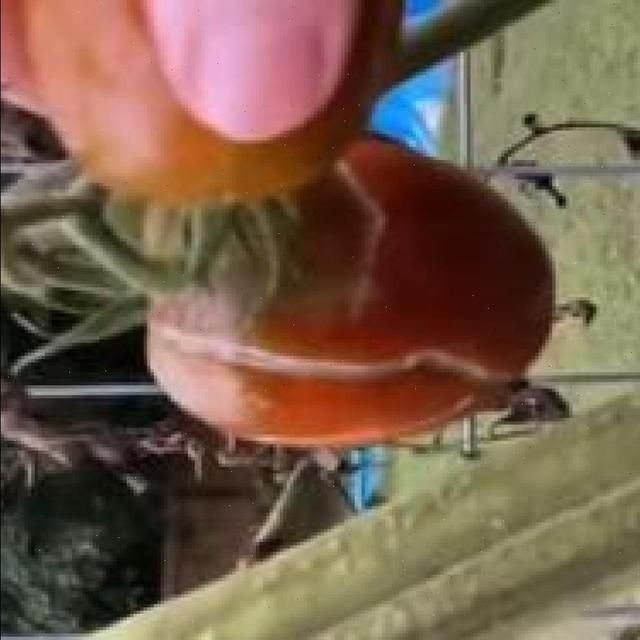Cracking Fruit: (59, 70, 275, 231)
